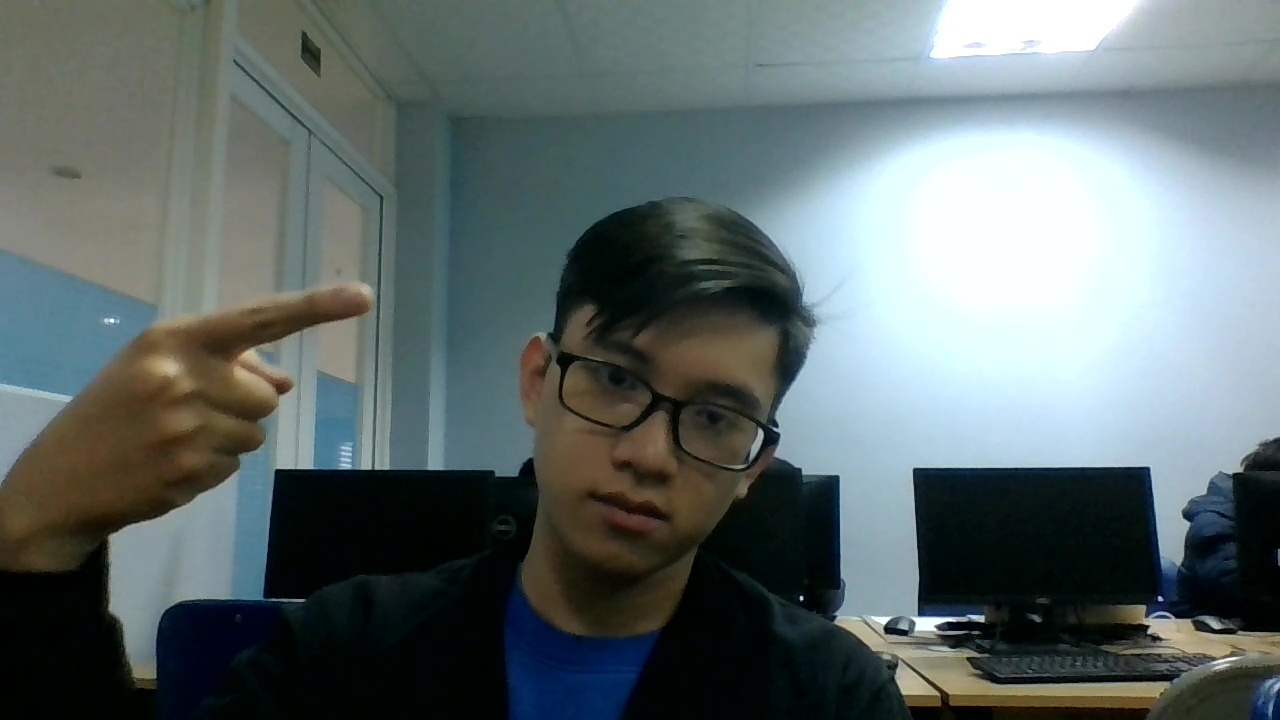left: (1, 274, 384, 526)
